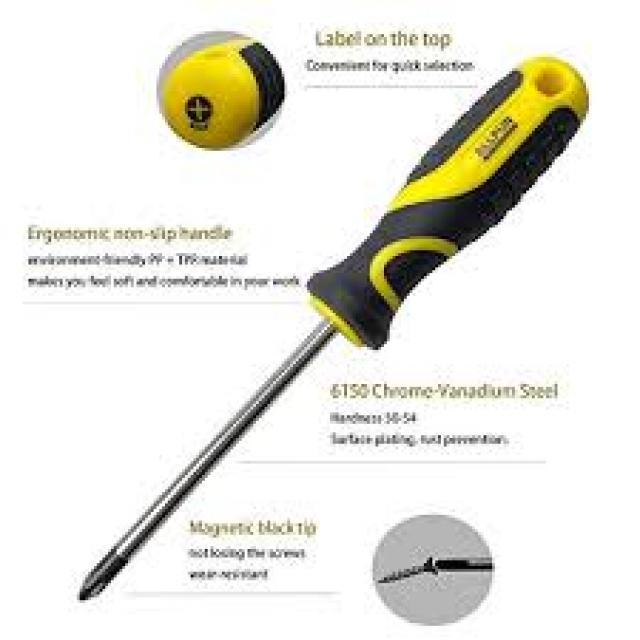screwdriver: (70, 51, 596, 606)
